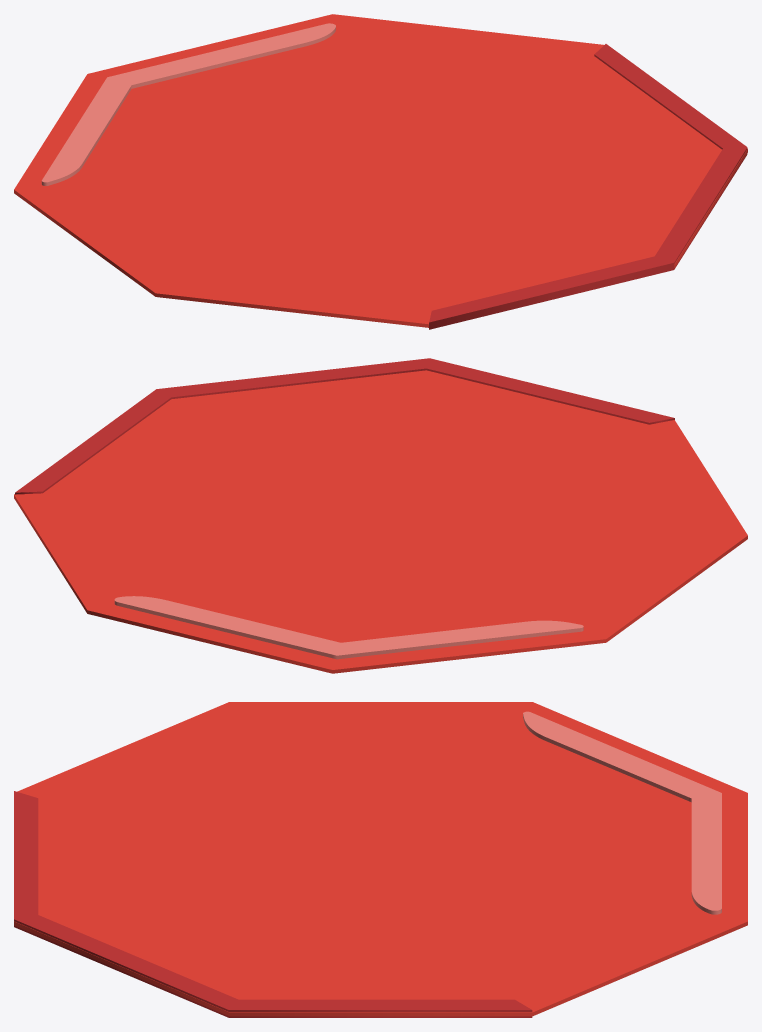
The model's file is emoji_u1f6d1.glb.
3 renders of one model, top to bottom at view 1: azimuth 30°, elevation 25°; view 2: azimuth 150°, elevation 25°; view 3: azimuth 270°, elevation 25°, orthographic. The views are drawn at different scales.
Parts seen in each view (by area): view 1: emoji_u1f6d1; view 2: emoji_u1f6d1; view 3: emoji_u1f6d1.
Boxes of the visible parts, x1,y1,x2,y2 form: emoji_u1f6d1: [14, 14, 747, 329]; emoji_u1f6d1: [14, 358, 747, 673]; emoji_u1f6d1: [14, 702, 747, 1017].
Size of the model in its own units: 0.0339 by 0.0006 by 0.0339.
